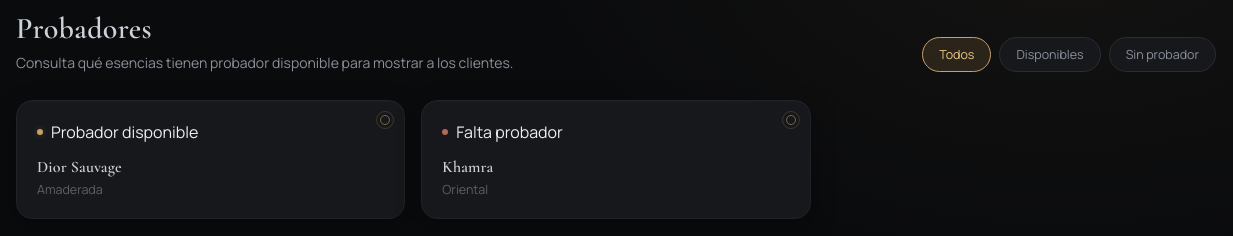
Test case: Probadores › el filtro "Disponibles" consulta con el estado disponibles
Expected: the heading "Dior Sauvage" is shown, [37,157,122,177]
Click the button "Disponibles" at (1050, 54), box [999,37,1101,72]
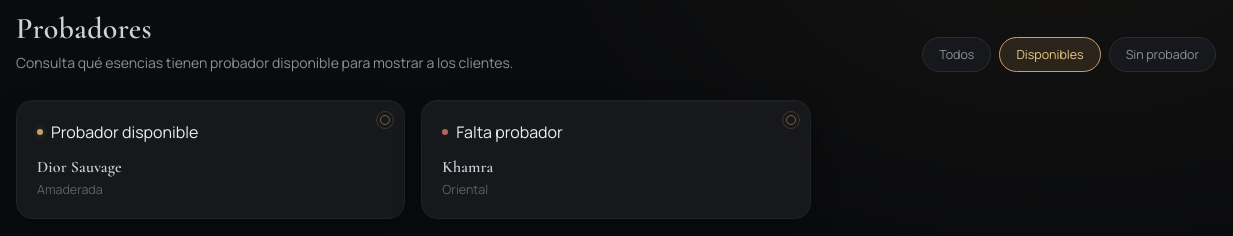
Expected: the button "Disponibles" has class "sh-testers__chip--active", [999,37,1101,72]
